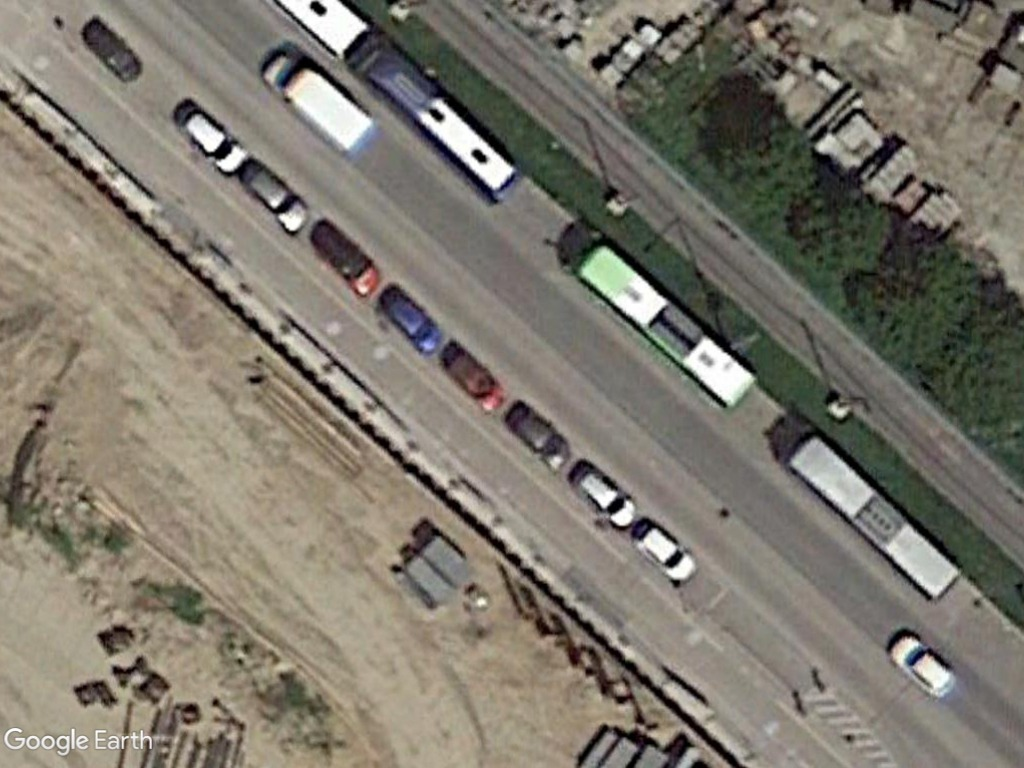bus: (565, 239, 762, 414), (784, 427, 964, 605), (351, 37, 520, 199)
car: (169, 98, 249, 178), (884, 625, 961, 702), (239, 163, 313, 237), (377, 286, 448, 360), (569, 460, 637, 534), (503, 398, 570, 473), (629, 515, 697, 585)
van: (256, 47, 375, 157)
